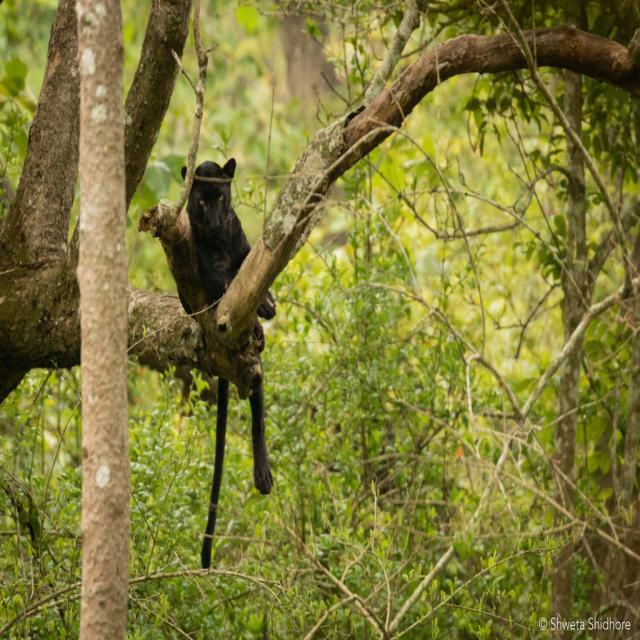Leopard: (172, 157, 272, 573)
